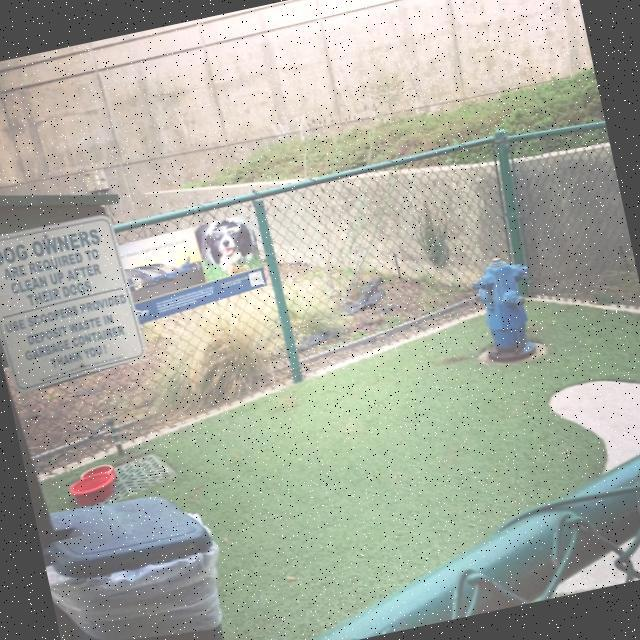fire_hydrant: (466, 250, 549, 365)
